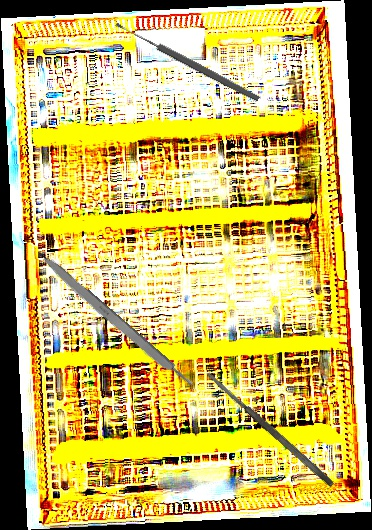Scalpel Handle: (34, 250, 197, 393)
Spatula Surgical: (203, 368, 336, 489)
Surgical Spoon: (114, 19, 261, 104)
